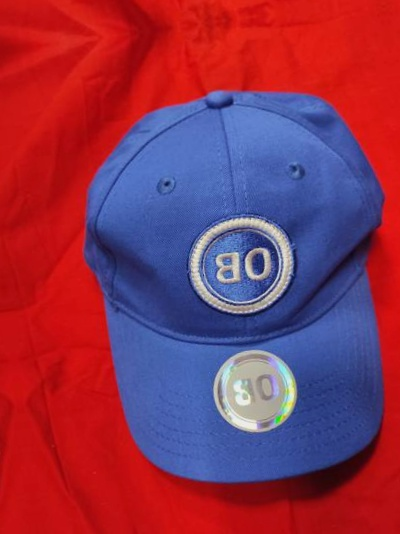Hat: (59, 65, 400, 500)
